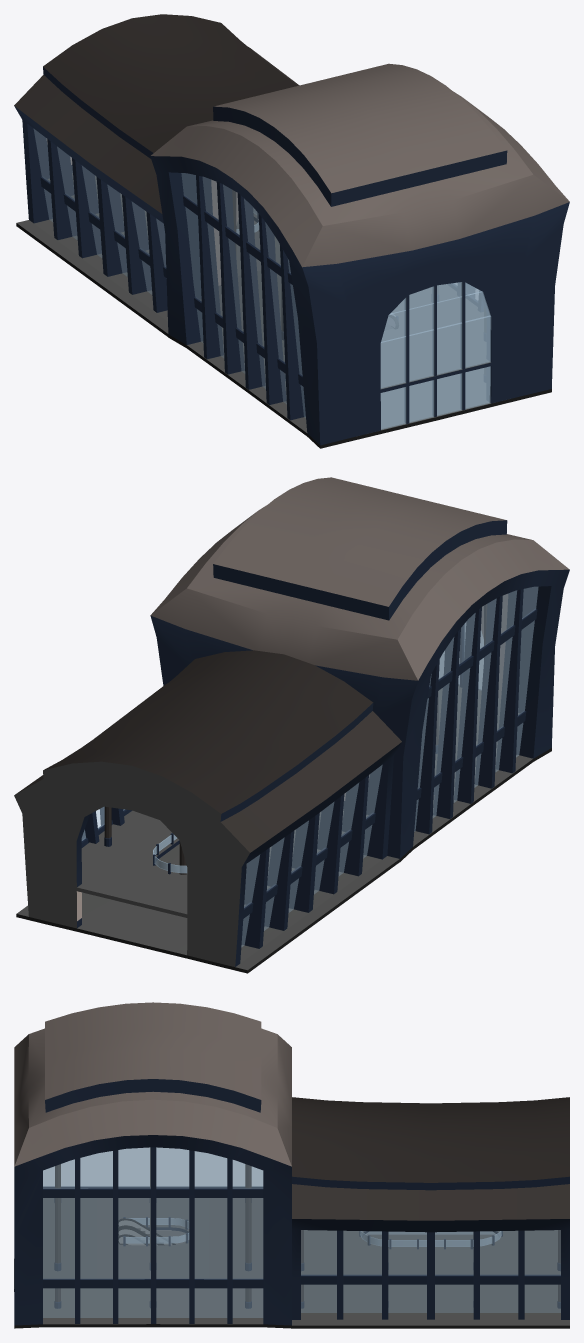
File: airportextension.glb
The picture shows the model from 3 angles, top to bottom: view 1: azimuth 30°, elevation 25°; view 2: azimuth 150°, elevation 25°; view 3: azimuth 270°, elevation 25°; orthographic projection. The views are drawn at different scales.
Visible parts, largest first — view 1: 07.Modulo2_AIRPORT_0; view 2: 07.Modulo2_AIRPORT_0; view 3: 07.Modulo2_AIRPORT_0.
Part boxes in pixels (x1,y1,x2,y2): 07.Modulo2_AIRPORT_0: (14,14,569,448); 07.Modulo2_AIRPORT_0: (14,477,569,973); 07.Modulo2_AIRPORT_0: (14,1002,569,1328).
Bounding box in the file's own units: 35.59 × 33.1 × 70.01.
1 material, 1 textured.
